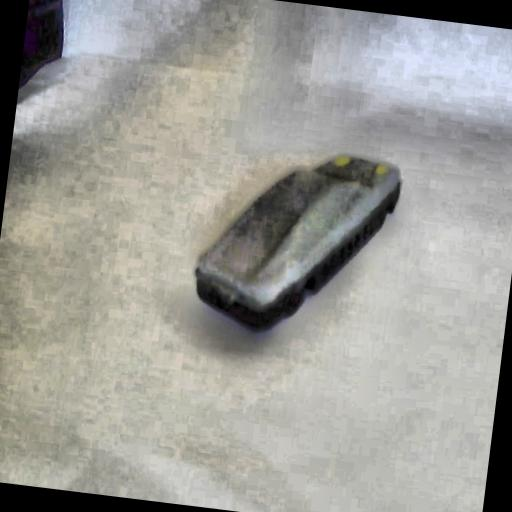normal_car: (184, 134, 406, 349)
